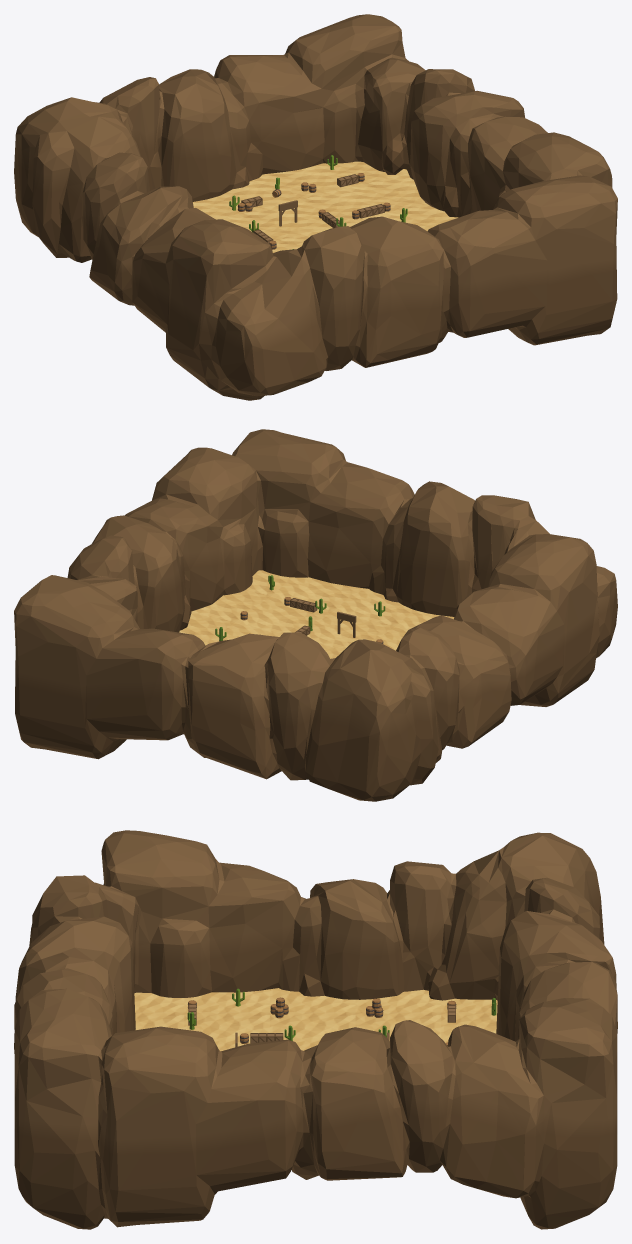
File: FrontendGhostTown.glb
3 views of the same model, one above another, from view 1: azimuth 30°, elevation 25°; view 2: azimuth 150°, elevation 25°; view 3: azimuth 270°, elevation 25° (orthographic). The views are drawn at different scales.
Visible parts, largest first — view 1: Canyon, Floor, GhostTown.001; view 2: Canyon, Floor, GhostTown.001; view 3: Canyon, Floor, GhostTown.001.
Part boxes in pixels (box(x1,y1,x2,y2)): Canyon: box(14, 14, 617, 400); Floor: box(193, 161, 458, 252); GhostTown.001: box(229, 155, 407, 249); Canyon: box(14, 429, 617, 801); Floor: box(179, 570, 454, 658); GhostTown.001: box(215, 575, 385, 643); Canyon: box(14, 830, 617, 1229); Floor: box(134, 988, 497, 1051); GhostTown.001: box(187, 988, 496, 1047).
Size of the model in its own units: 68.47 by 27.41 by 72.42.
4 materials, 4 textured.
